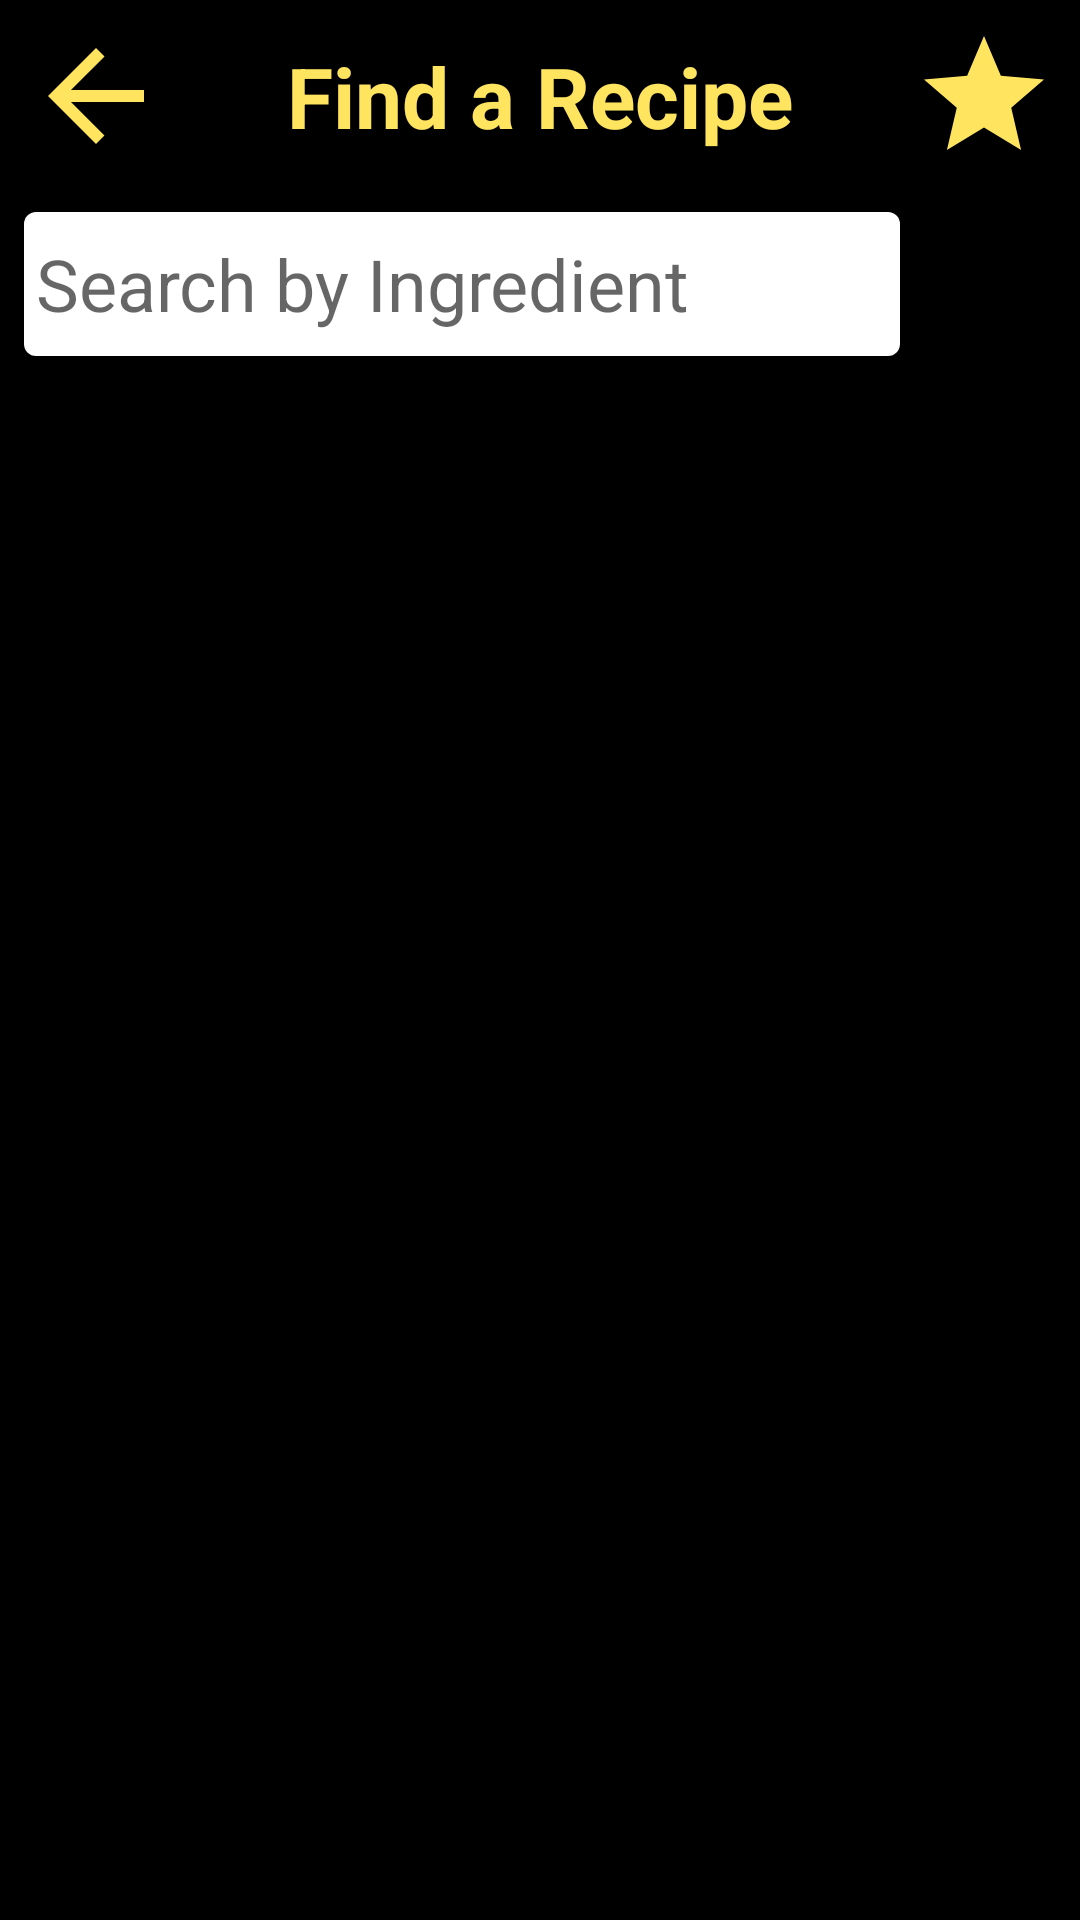

Icon click points for this 1080 × 1920 phone screenshot, format point (x, y):
arrow back: point (96, 96)
star: point (984, 93)
